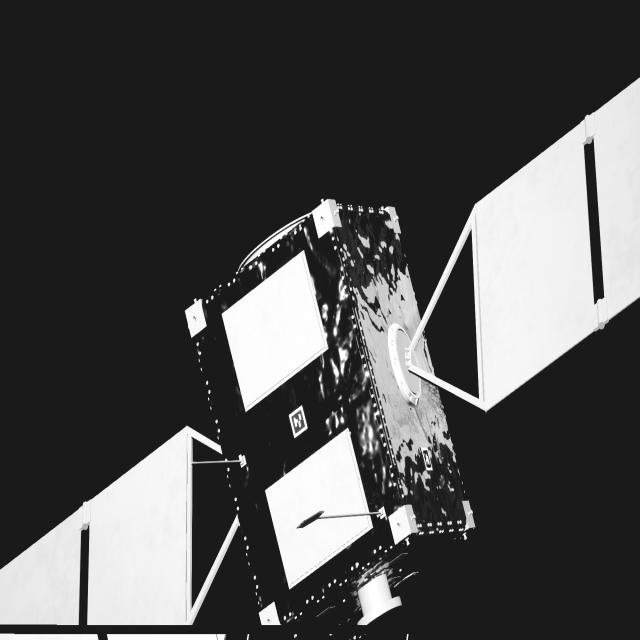medium_debris: (0, 78, 640, 630)
